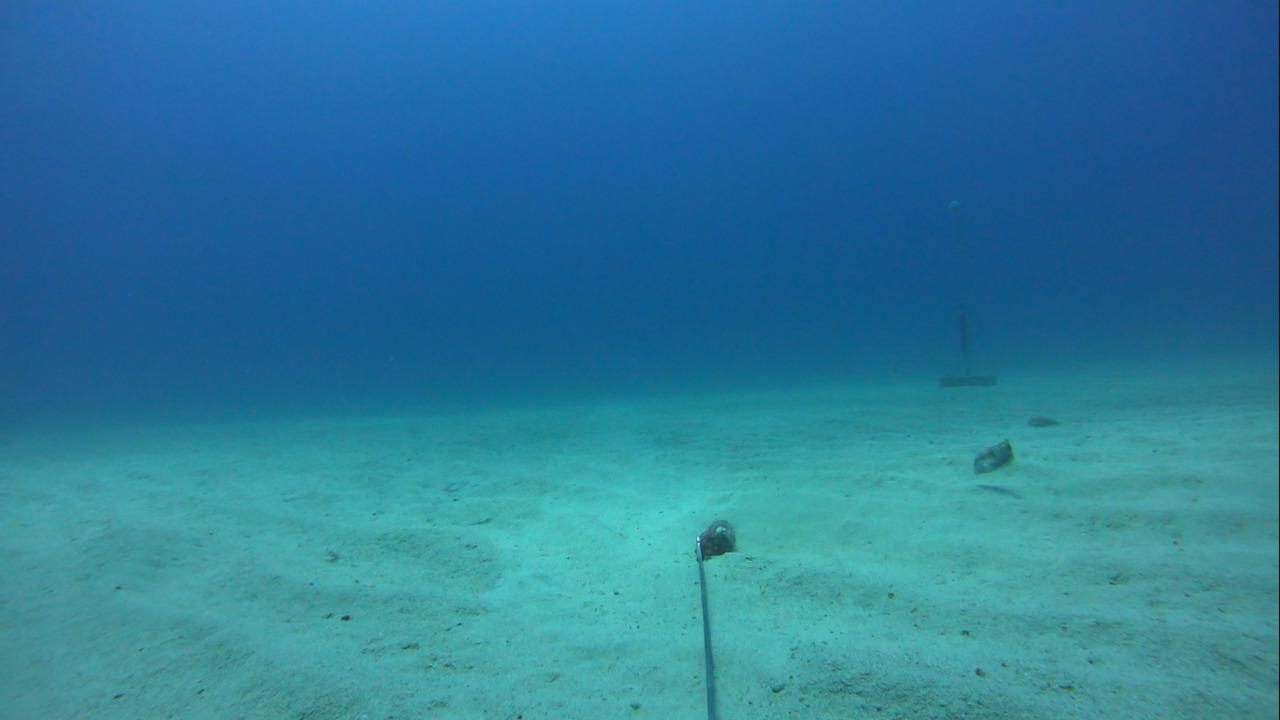raor: (970, 434, 1020, 474), (1021, 410, 1059, 434)
